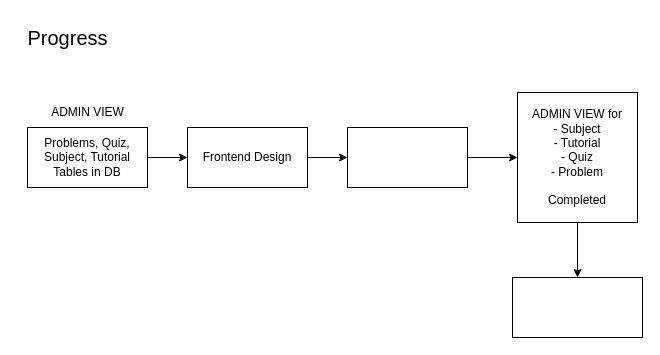
Some shapes in this 660 by 355 pixel diagram are drawn without their labels. The shapes that lost their labels are listed below. From the top down, each one's centre as x and y in pixels, then its label:
[407,157]: Create Website
[577,307]: Accounts Table in DB
